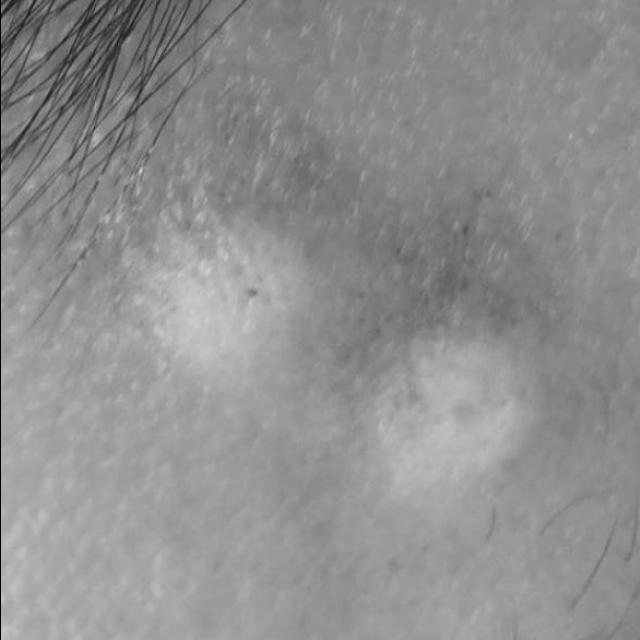nodule: (128, 159, 610, 564)
